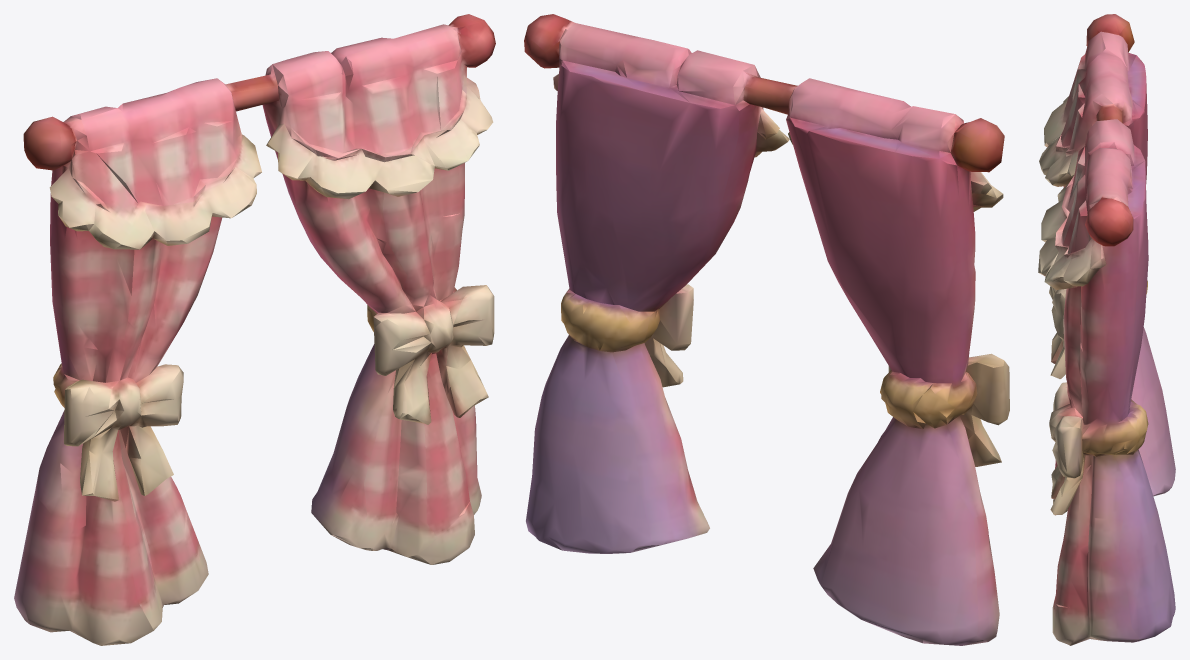
Rendered from curtain19.glb.
3 renders of one model, left to right at view 1: azimuth 30°, elevation 25°; view 2: azimuth 150°, elevation 25°; view 3: azimuth 270°, elevation 25°, orthographic. The views are drawn at different scales.
Bounding box in the file's own units: 0.2297 × 0.2413 × 0.0652.
Materials: 1 (1 with a texture image).
